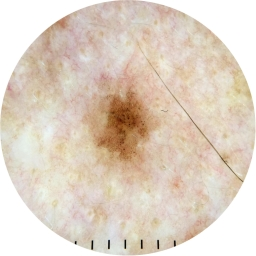melanoma: (95, 91, 150, 160)
